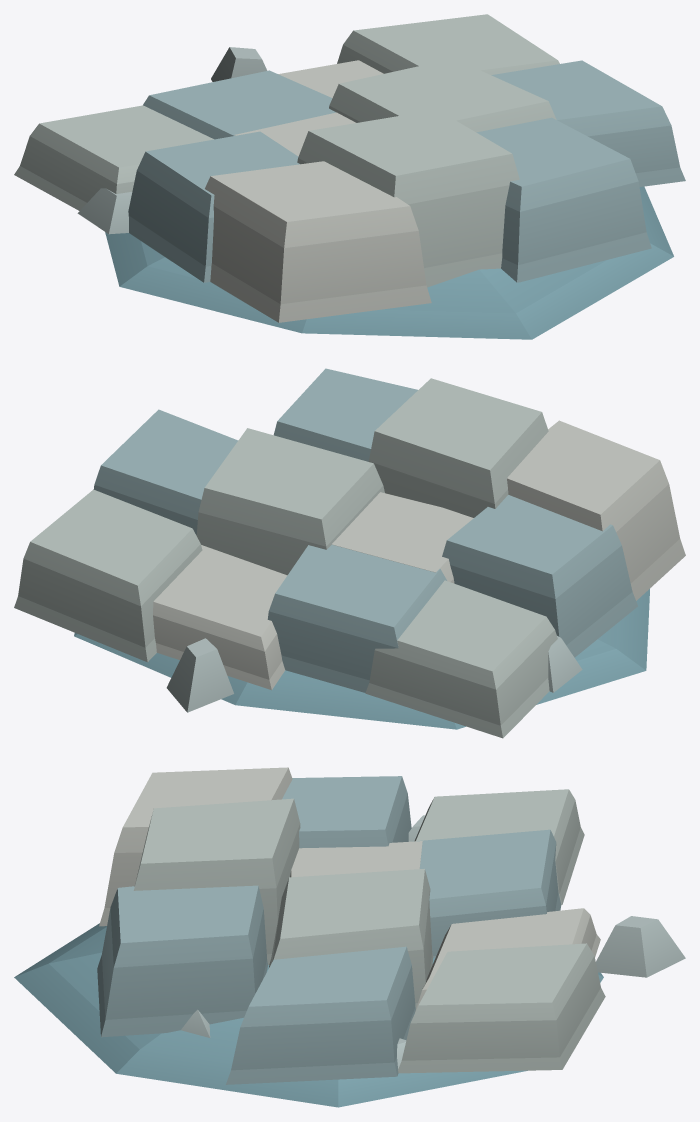
The model's file is glacier.glb.
The picture shows the model from 3 angles, top to bottom: view 1: azimuth 30°, elevation 25°; view 2: azimuth 150°, elevation 25°; view 3: azimuth 270°, elevation 25°; orthographic projection. The views are drawn at different scales.
Visible parts, largest first — view 1: Connected glacier shelf v3; view 2: Connected glacier shelf v3; view 3: Connected glacier shelf v3.
Boxes of the visible parts, x1,y1,x2,y2 form: Connected glacier shelf v3: (14,14,685,339); Connected glacier shelf v3: (14,368,685,738); Connected glacier shelf v3: (14,767,685,1107).
Bounding box in the file's own units: 4.39 × 1.07 × 4.82.
